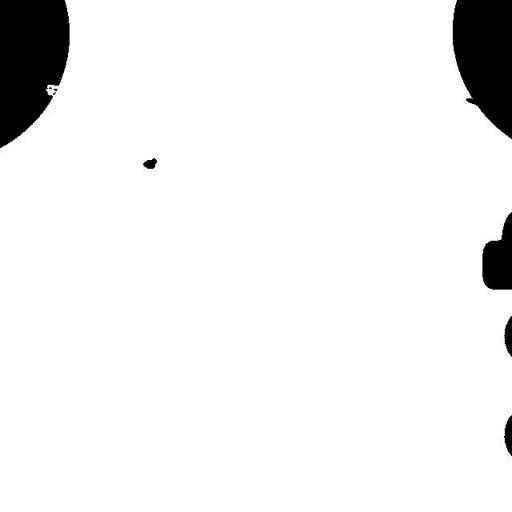copper: (135, 150, 164, 176)
mousebite: (38, 77, 67, 105)
spur: (458, 90, 488, 113)
